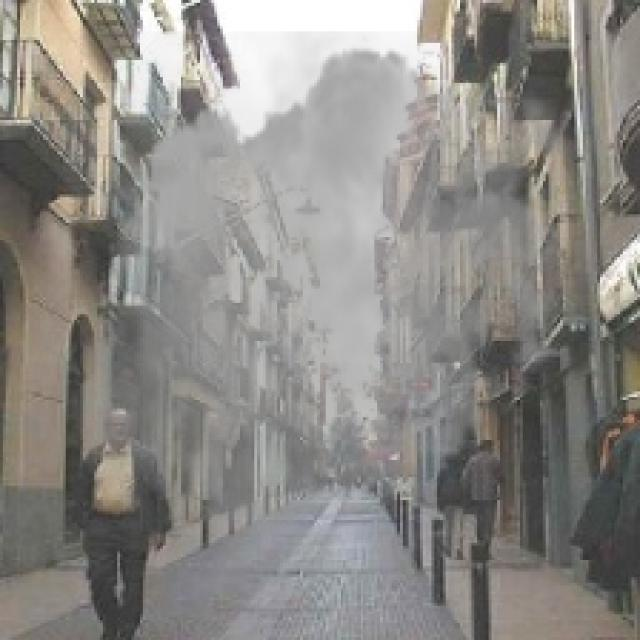smoke: (63, 31, 588, 580)
